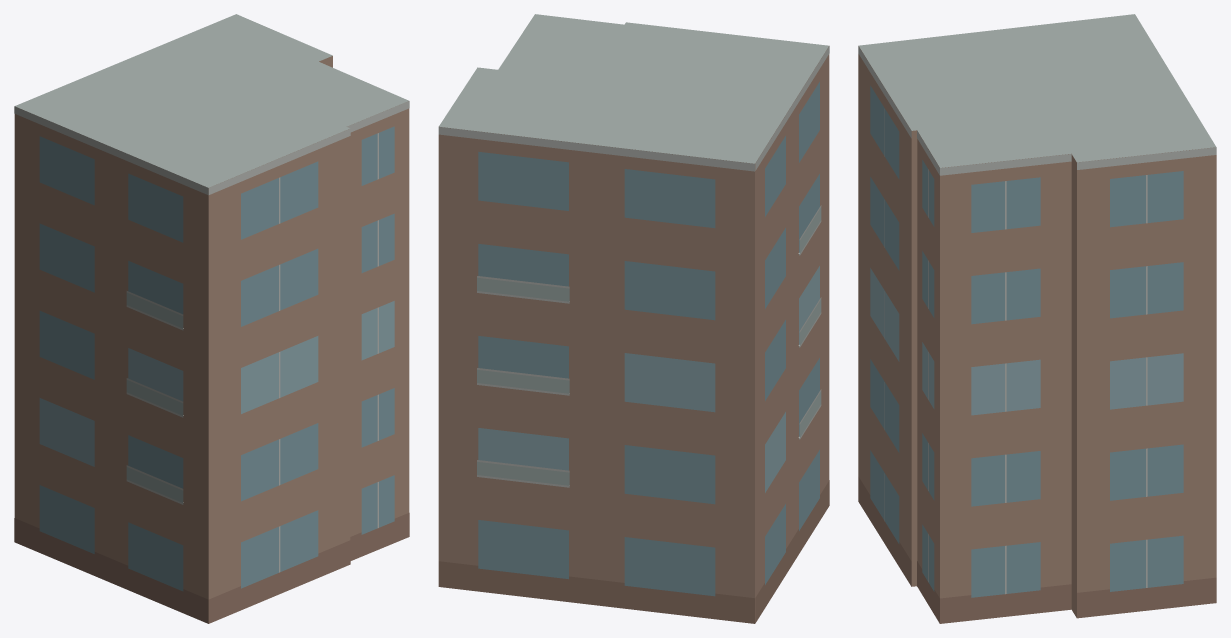
File: survey-upis-32712869.glb
3 renders of one model, left to right at view 1: azimuth 30°, elevation 25°; view 2: azimuth 150°, elevation 25°; view 3: azimuth 270°, elevation 25°, orthographic. The views are drawn at different scales.
Visible parts, largest first — view 1: survey-upis-32712869.tmp; view 2: survey-upis-32712869.tmp; view 3: survey-upis-32712869.tmp.
Boxes of the visible parts, box(x1,y1,x2,y2) form: survey-upis-32712869.tmp: box(14, 14, 409, 623); survey-upis-32712869.tmp: box(438, 14, 829, 623); survey-upis-32712869.tmp: box(858, 14, 1216, 623).
Bounding box in the file's own units: 10.37 × 14.3 × 10.19.
